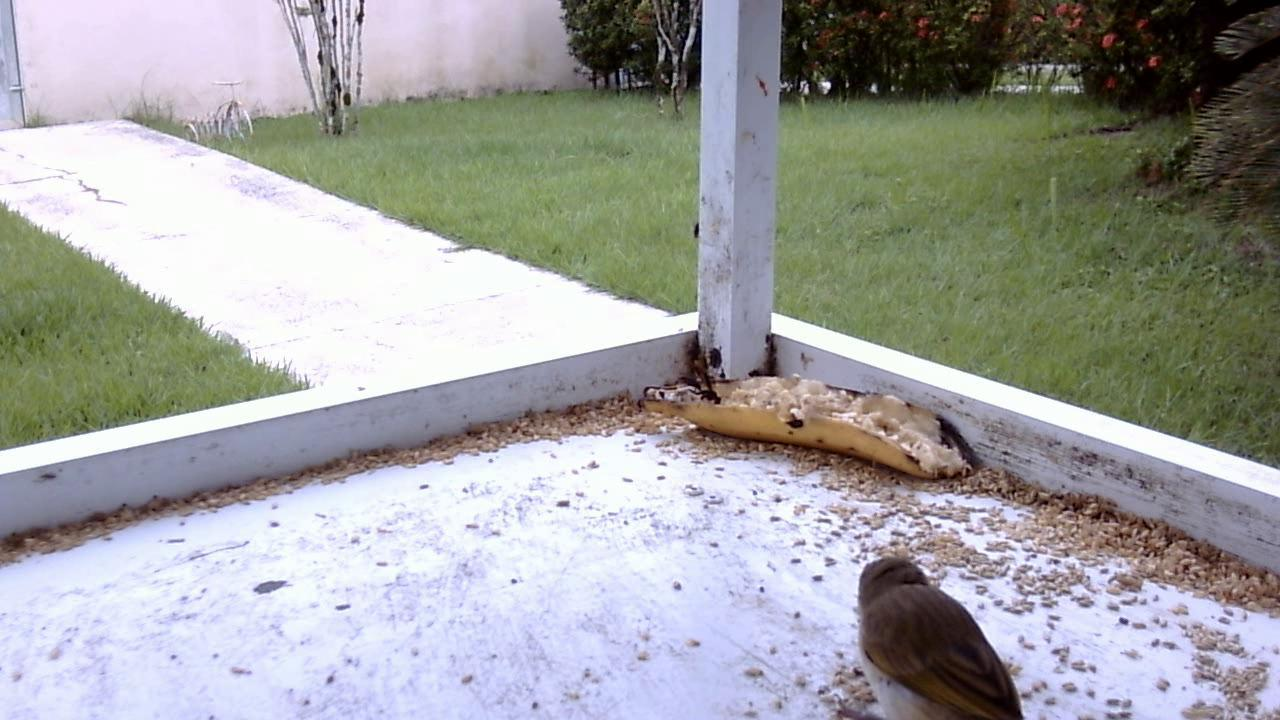canario_do_amazonas: (843, 541, 1034, 713)
